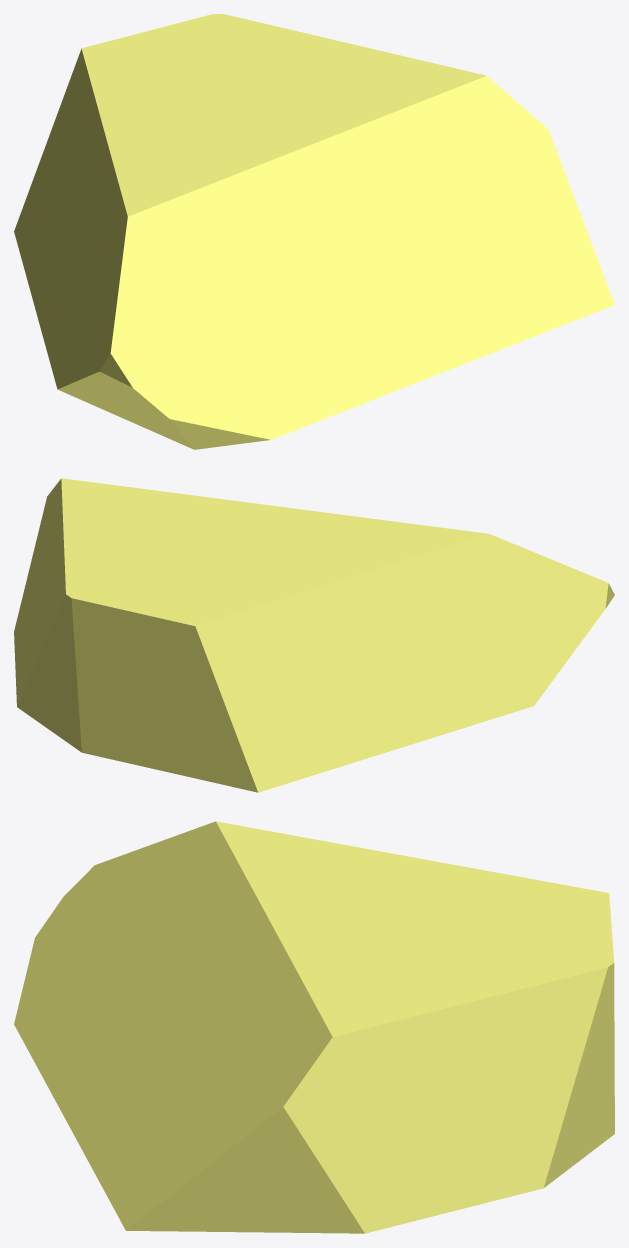
The model's file is breakableCenter_cell_013.fbx.
3 renders of one model, top to bottom at view 1: azimuth 30°, elevation 25°; view 2: azimuth 150°, elevation 25°; view 3: azimuth 270°, elevation 25°, orthographic. The views are drawn at different scales.
Visible parts, largest first — view 1: breakableCenter_cell.013; view 2: breakableCenter_cell.013; view 3: breakableCenter_cell.013.
Boxes of the visible parts, <box> form: breakableCenter_cell.013: <box>14,14,614,449</box>; breakableCenter_cell.013: <box>14,478,614,792</box>; breakableCenter_cell.013: <box>14,821,614,1233</box>.
Size of the model in its own units: 47.24 by 14.14 by 43.41.
